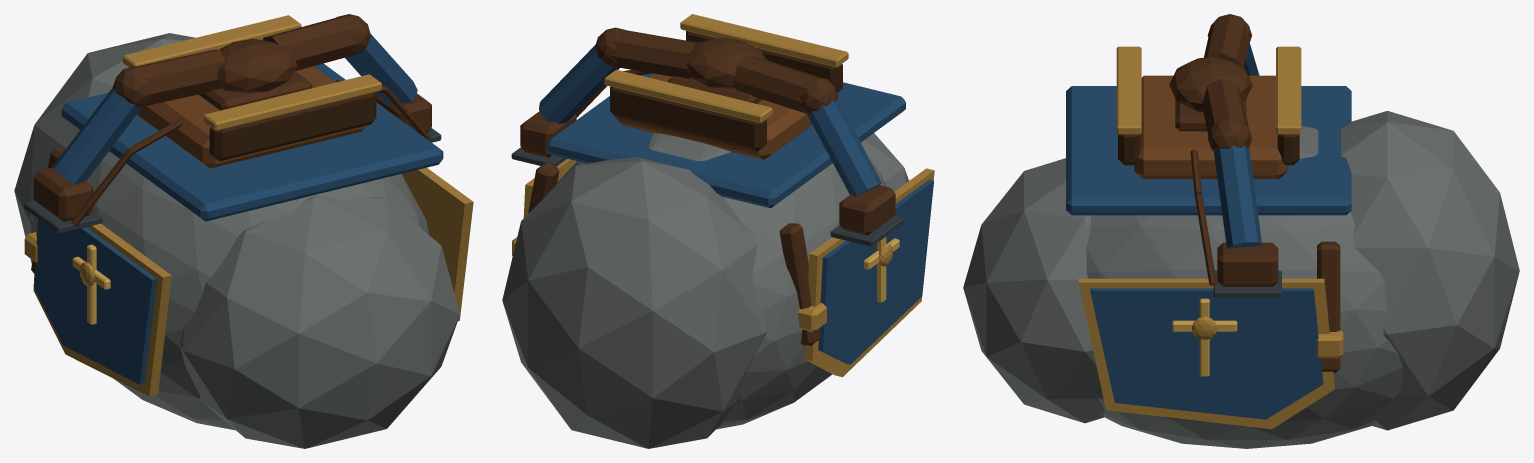
The model's file is Body.glb.
3 views of the same model, side by side, from view 1: azimuth 30°, elevation 25°; view 2: azimuth 150°, elevation 25°; view 3: azimuth 270°, elevation 25° (orthographic). The views are drawn at different scales.
Visible parts, largest first — view 1: Sculpture; view 2: Sculpture; view 3: Sculpture.
Boxes of the visible parts, box(x1,y1,x2,y2) form: Sculpture: box(14, 14, 473, 448); Sculpture: box(502, 14, 934, 448); Sculpture: box(963, 14, 1519, 448).
Bounding box in the file's own units: 2.09 × 1.92 × 2.65.
